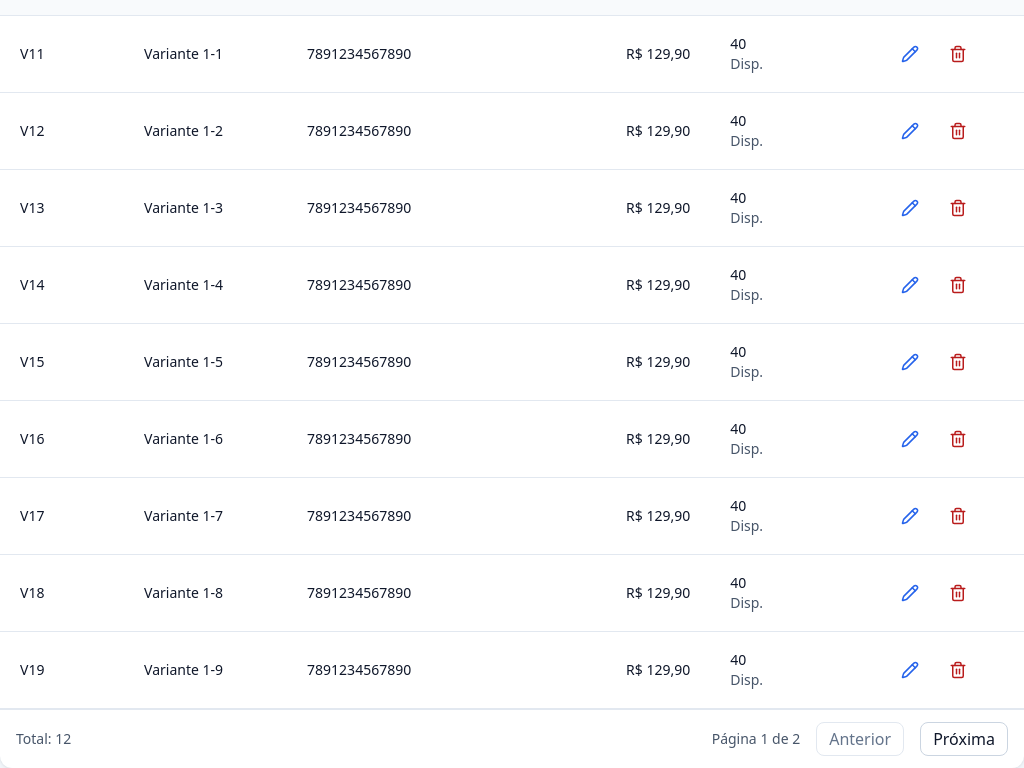
Test: ProductDetailsPage › mostra marca, categoria e contagem; 12 variantes: título mostra 12 e página 2 busca page=2
This screenshot has width=1024, height=768.
(page scrolled)
Click the button "Próxima".
click(964, 739)  # box left=920, top=722, right=1008, bottom=756
(page scrolled)
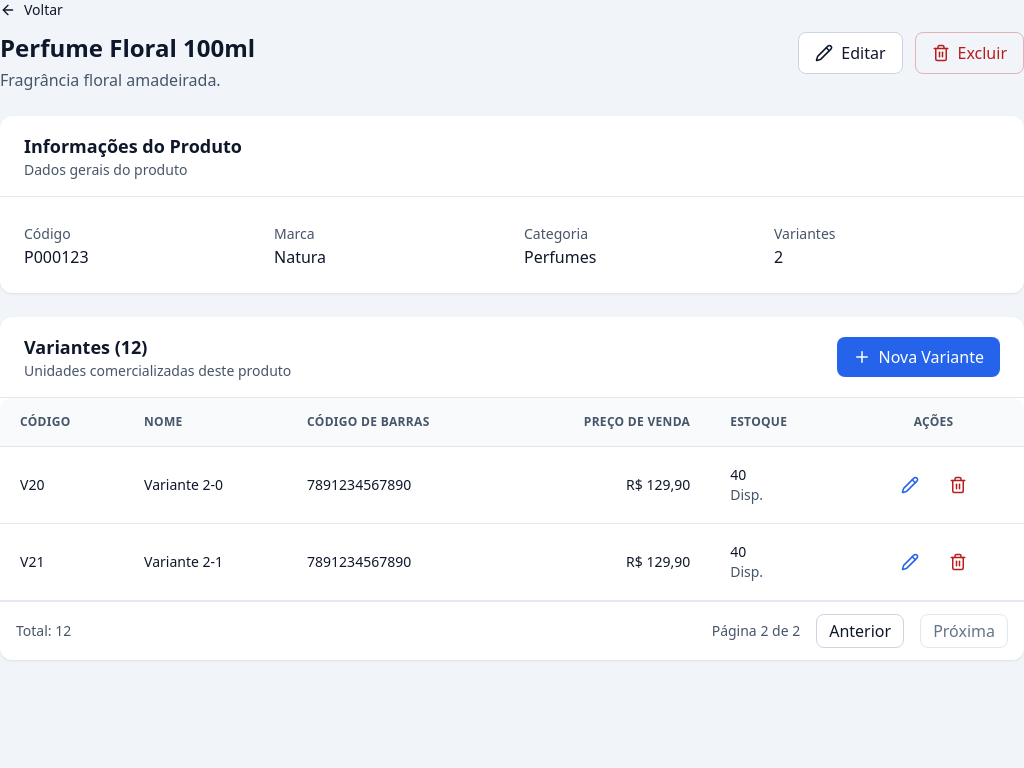
Expected: the heading "Variantes (12)" is shown, left=24, top=335, right=148, bottom=359
Now the text "Variante 2-0" is shown, box left=144, top=475, right=223, bottom=494
Now the text "Página 2 de 2" is shown, box left=712, top=621, right=800, bottom=641
